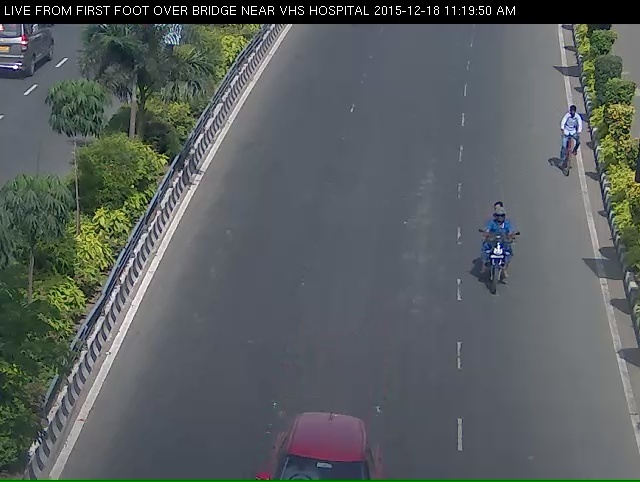Person: (479, 213, 518, 312)
